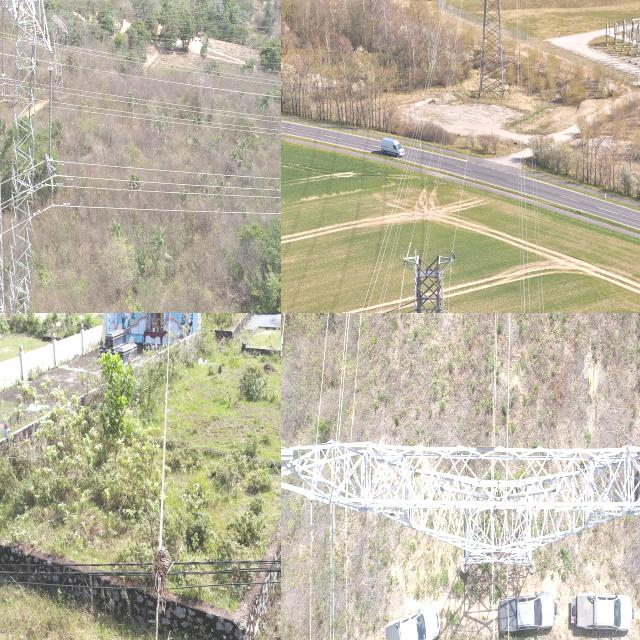杆塔: (281, 413, 640, 603), (0, 0, 74, 313)
正常电缆: (360, 60, 432, 313), (365, 132, 418, 313), (408, 69, 451, 247), (380, 142, 421, 313), (452, 69, 481, 249), (376, 180, 410, 313), (422, 129, 445, 254), (514, 30, 524, 313), (533, 229, 542, 313)
正常绝缘子: (46, 64, 55, 165), (0, 0, 7, 82)
电缆破损: (139, 509, 182, 640)
